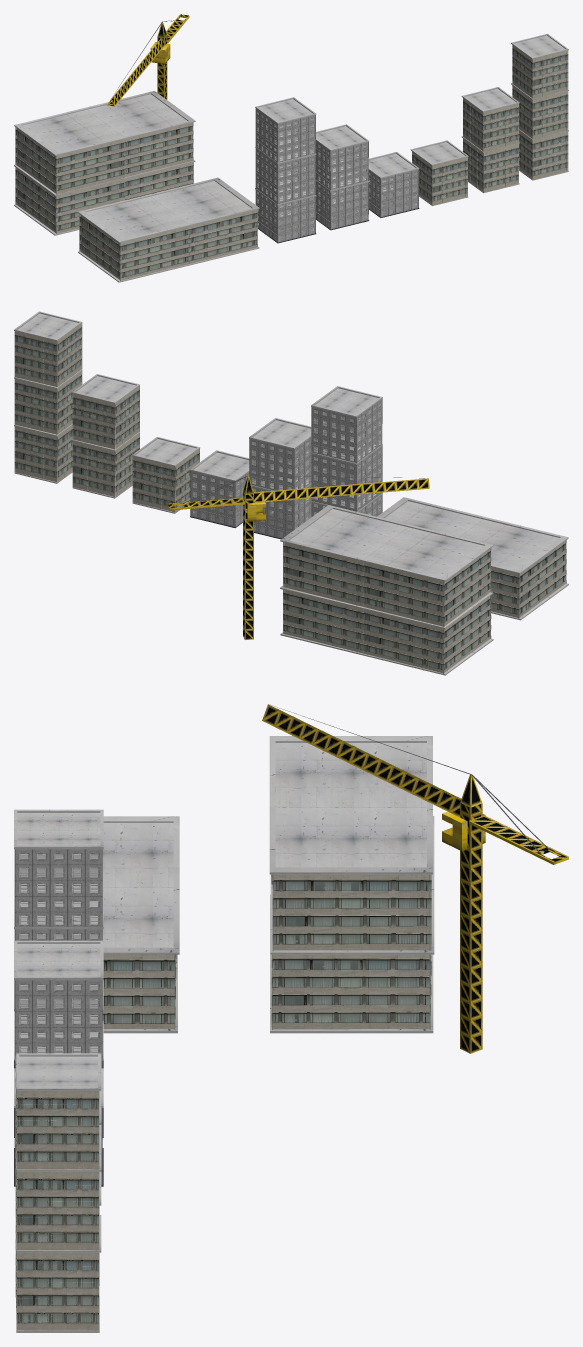
File: buildings_pack.glb
The picture shows the model from 3 angles, top to bottom: view 1: azimuth 30°, elevation 25°; view 2: azimuth 150°, elevation 25°; view 3: azimuth 270°, elevation 25°; orthographic projection. The views are drawn at different scales.
Parts seen in each view (by area): view 1: Cube.018_72, Cube.022_84, BuildingsHighRise0308_2_download600.011_81, BuildingsHighRise0308_2_download600.014_85, BuildingsHighRise0308_2_download600.003_69, BuildingsHighRise0308_2_download600_66, BuildingsHighRise0308_2_download600.007_75, BuildingsHighRise0308_2_download600.013_83, object 14, object 24, BuildingsHighRise0308_2_download600.005_71, object 29 (+33 smaller); view 2: Cube.022_84, Cube.018_72, BuildingsHighRise0308_2_download600.012_82, BuildingsHighRise0308_2_download600.008_76, BuildingsHighRise0308_2_download600.010_80, BuildingsHighRise0308_2_download600.006_74, BuildingsHighRise0308_2_download600.013_83, object 31, BuildingsHighRise0308_2_download600.009_77, BuildingsHighRise0308_2_download600.005_71, object 16, buildingshighrise0494-9-l.022_63 (+30 smaller); view 3: Cube.022_84, BuildingsHighRise0308_2_download600.015_86, BuildingsHighRise0308_2_download600.017_88, Cube.018_72, object 28, object 13, buildingshighrise0494-9-l.015_53, buildingshighrise0494-9-l.023_64, buildingshighrise0494-9-l.019_59, Cube.023_89, BuildingsHighRise0308_2_download600.001_67, Cube.024_90 (+9 smaller).
Part boxes in pixels (bbox=[...]): Cube.018_72: bbox=[78, 177, 259, 242]; Cube.022_84: bbox=[14, 91, 195, 155]; BuildingsHighRise0308_2_download600.011_81: bbox=[56, 139, 125, 194]; BuildingsHighRise0308_2_download600.014_85: bbox=[125, 122, 193, 177]; BuildingsHighRise0308_2_download600.003_69: bbox=[120, 226, 189, 280]; BuildingsHighRise0308_2_download600_66: bbox=[189, 209, 257, 263]; BuildingsHighRise0308_2_download600.007_75: bbox=[56, 179, 124, 233]; BuildingsHighRise0308_2_download600.013_83: bbox=[15, 128, 56, 193]; object 14: bbox=[330, 142, 368, 189]; object 24: bbox=[277, 155, 315, 203]; BuildingsHighRise0308_2_download600.005_71: bbox=[79, 215, 120, 280]; object 29: bbox=[277, 115, 315, 162]; Cube.022_84: bbox=[280, 505, 493, 581]; Cube.018_72: bbox=[377, 497, 568, 573]; BuildingsHighRise0308_2_download600.012_82: bbox=[363, 562, 444, 626]; BuildingsHighRise0308_2_download600.008_76: bbox=[363, 609, 444, 673]; BuildingsHighRise0308_2_download600.010_80: bbox=[283, 542, 363, 606]; BuildingsHighRise0308_2_download600.006_74: bbox=[283, 590, 363, 653]; BuildingsHighRise0308_2_download600.013_83: bbox=[443, 548, 490, 627]; object 31: bbox=[311, 407, 356, 463]; BuildingsHighRise0308_2_download600.009_77: bbox=[443, 596, 490, 673]; BuildingsHighRise0308_2_download600.005_71: bbox=[518, 541, 566, 618]; object 16: bbox=[249, 438, 294, 490]; buildingshighrise0494-9-l.022_63: bbox=[14, 331, 57, 386]; Cube.022_84: bbox=[269, 736, 432, 874]; BuildingsHighRise0308_2_download600.015_86: bbox=[273, 874, 431, 950]; BuildingsHighRise0308_2_download600.017_88: bbox=[272, 954, 430, 1029]; Cube.018_72: bbox=[102, 816, 179, 954]; object 28: bbox=[15, 849, 102, 926]; object 13: bbox=[15, 980, 102, 1058]; buildingshighrise0494-9-l.015_53: bbox=[17, 1252, 98, 1330]; buildingshighrise0494-9-l.023_64: bbox=[17, 1091, 98, 1169]; buildingshighrise0494-9-l.019_59: bbox=[17, 1172, 98, 1249]; Cube.023_89: bbox=[460, 774, 482, 1053]; BuildingsHighRise0308_2_download600.001_67: bbox=[102, 954, 175, 1028]; Cube.024_90: bbox=[262, 704, 461, 817].
Size of the model in its own units: 11.79 by 3.47 by 6.32.
Materials: 7 (5 with a texture image).
